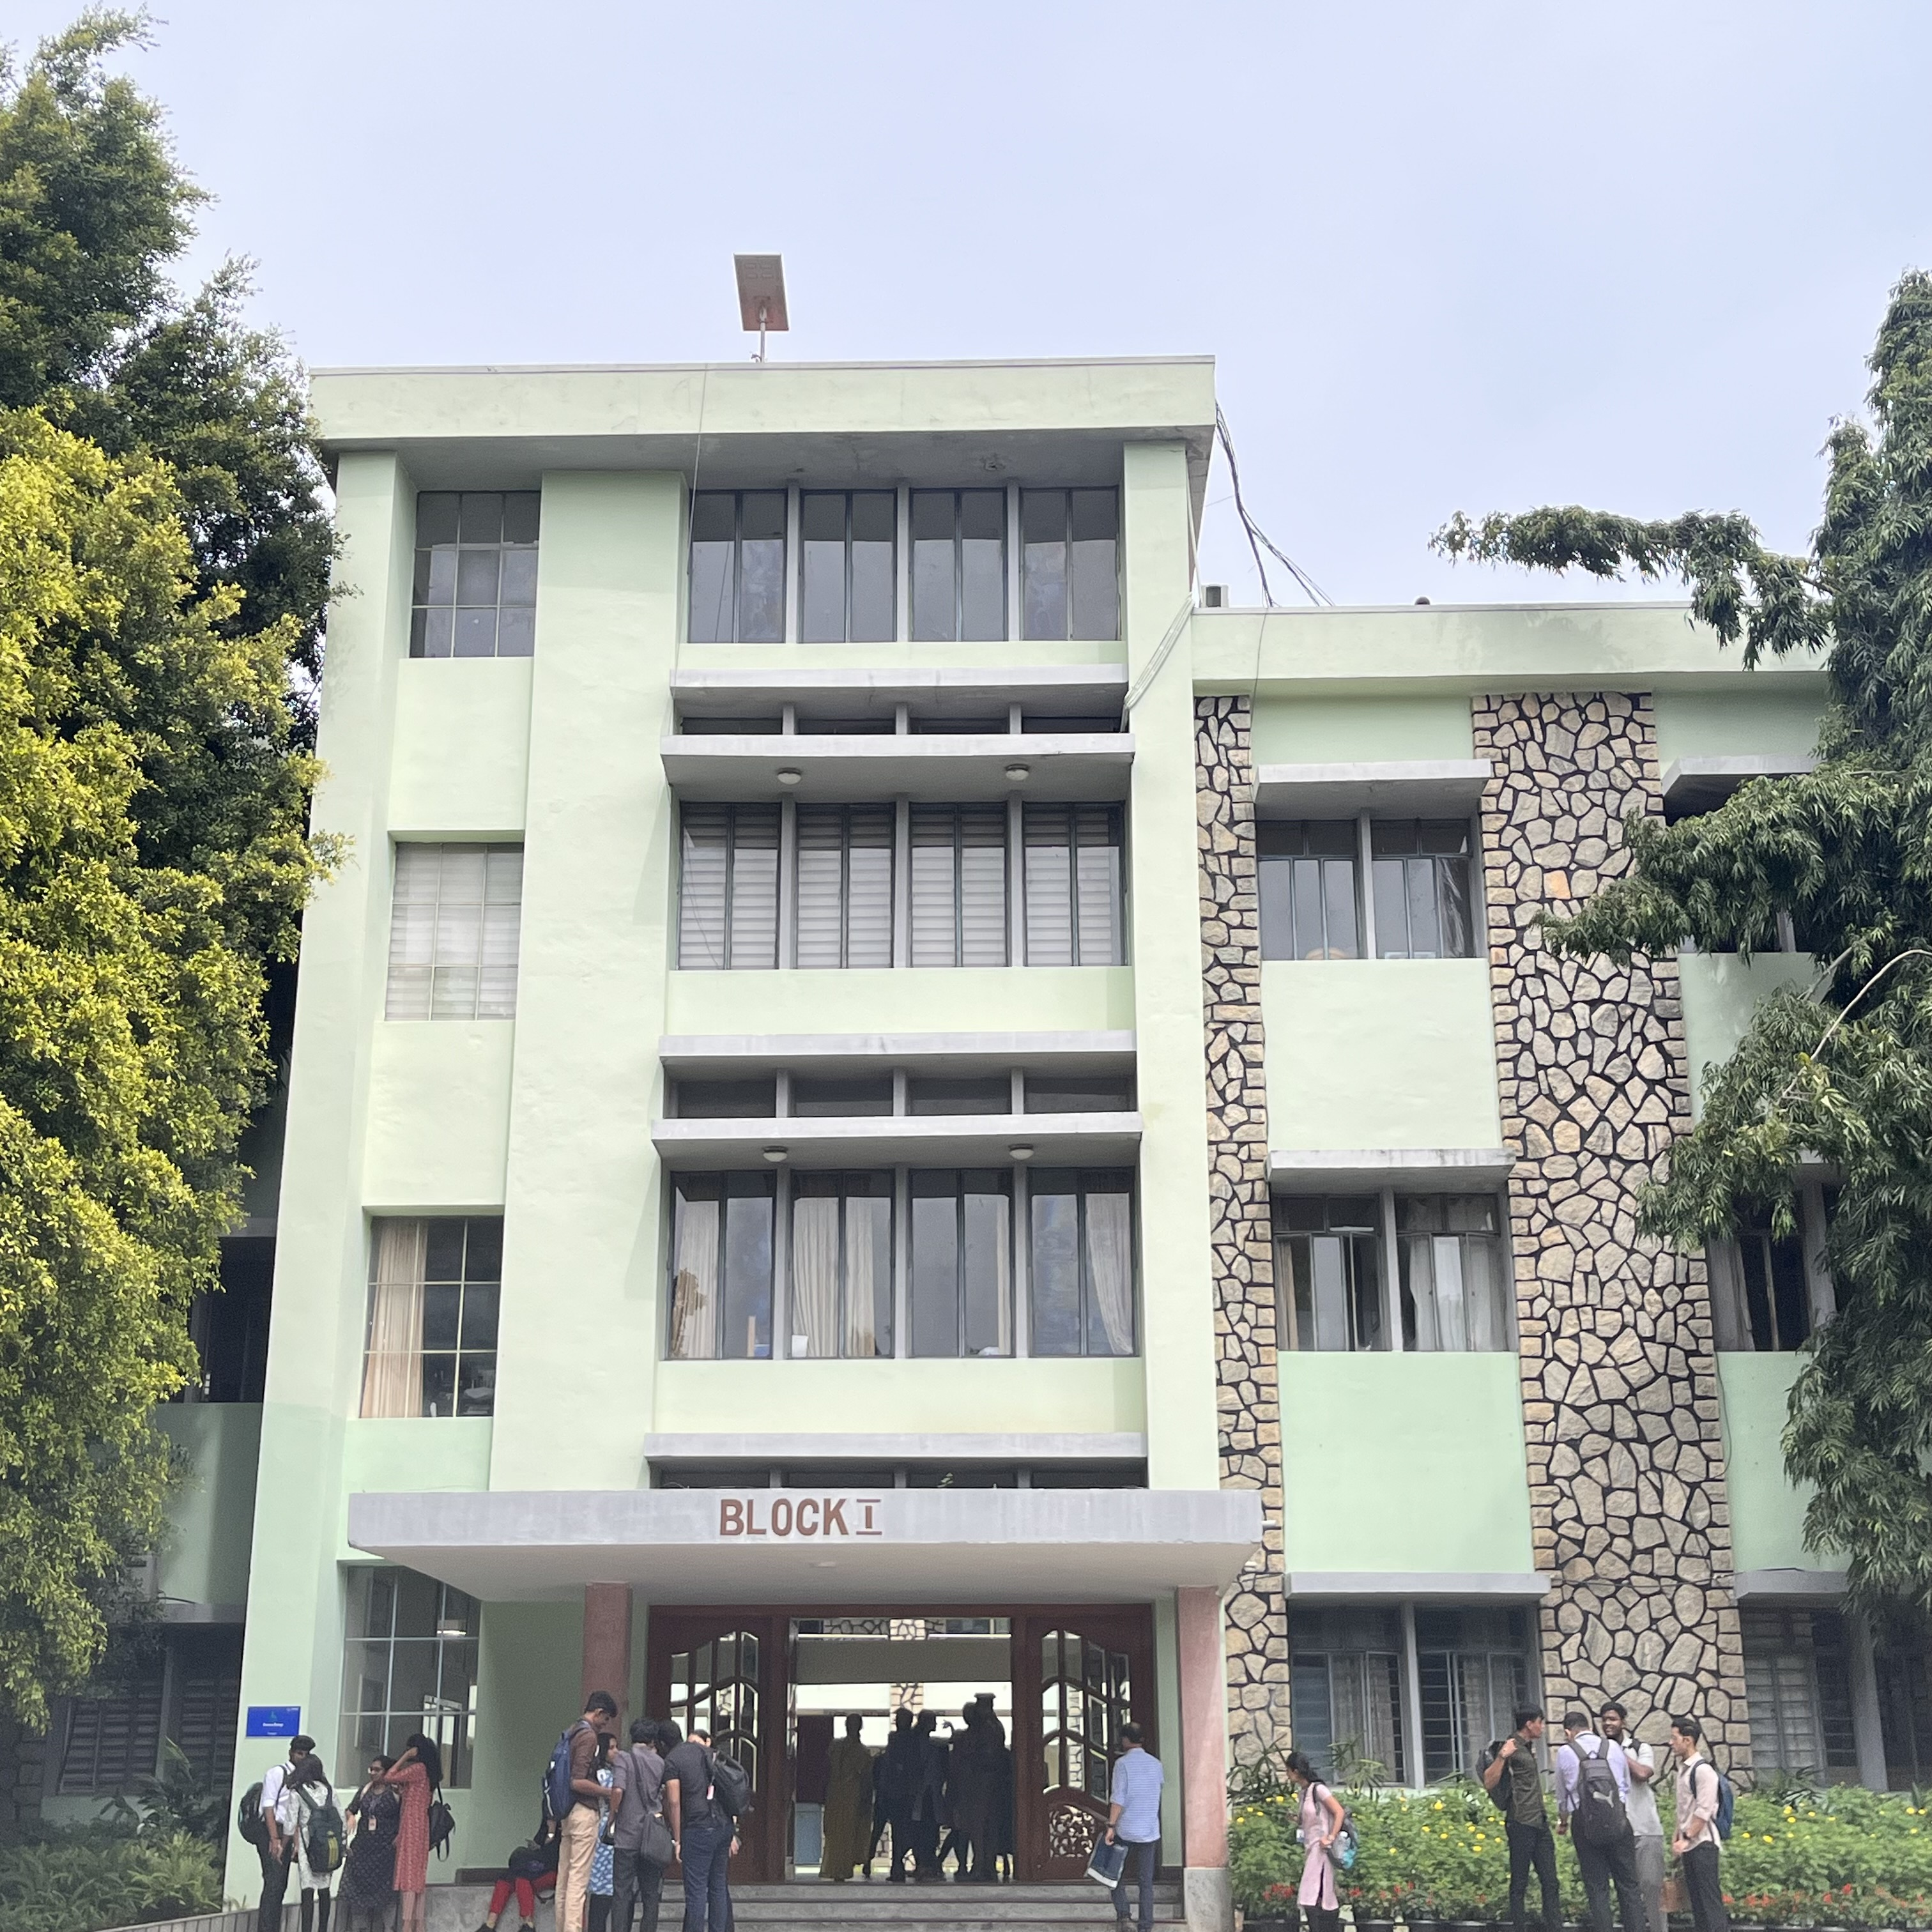Block 1: (262, 306, 1794, 1706)
